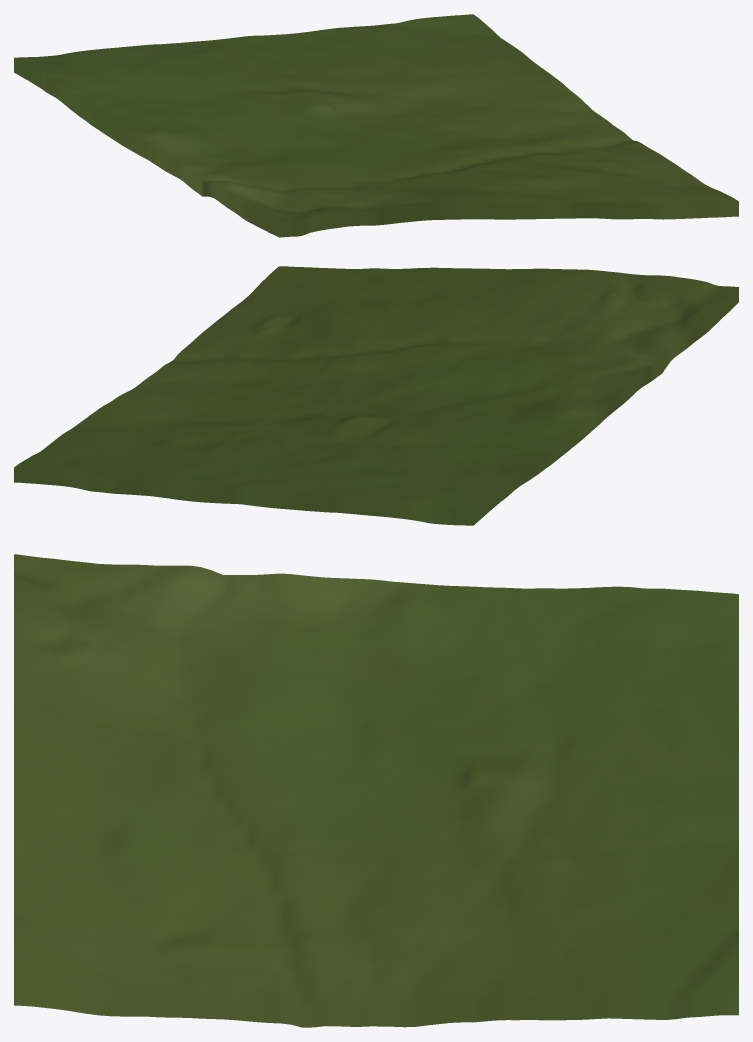
File: terrain_7_-15.glb
The picture shows the model from 3 angles, top to bottom: view 1: azimuth 30°, elevation 25°; view 2: azimuth 150°, elevation 25°; view 3: azimuth 270°, elevation 25°; orthographic projection. The views are drawn at different scales.
Parts seen in each view (by area): view 1: terrain_7_-15; view 2: terrain_7_-15; view 3: terrain_7_-15.
Boxes of the visible parts, <box> form: terrain_7_-15: <box>14,14,738,237</box>; terrain_7_-15: <box>14,266,738,525</box>; terrain_7_-15: <box>14,554,738,1027</box>.
Bounding box in the file's own units: 256 × 65.17 × 256.
